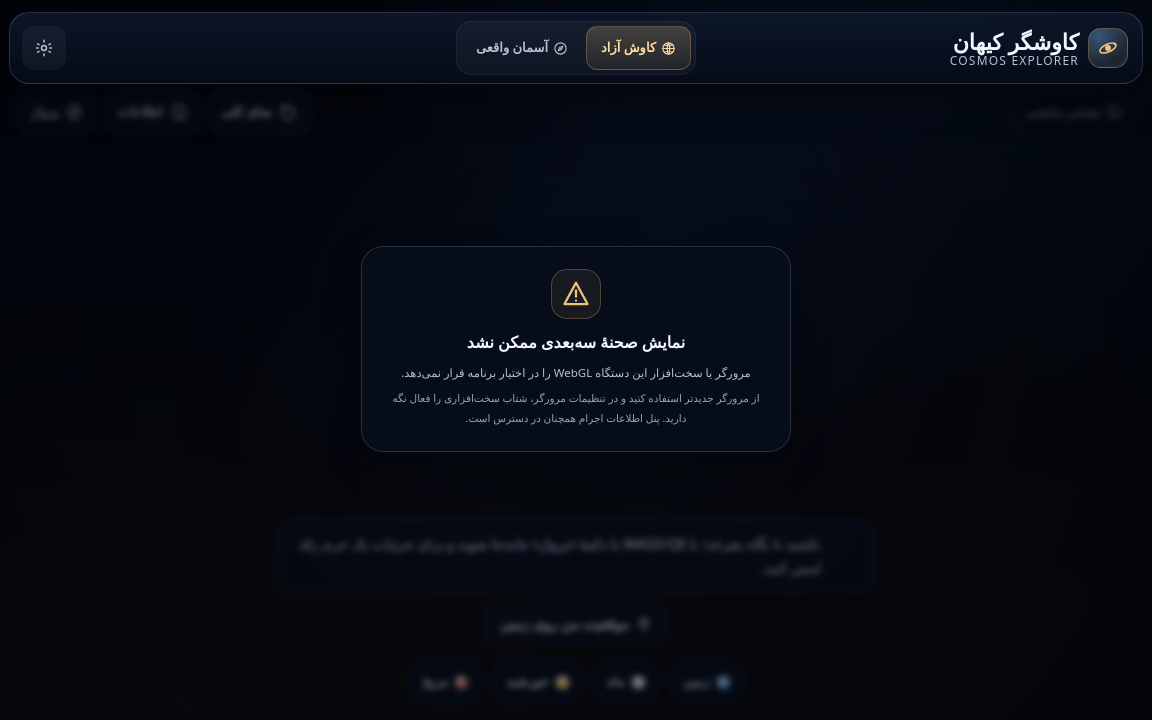
Test: application flows › selects a body and displays its scientific information
This screenshot has width=1152, height=720.
Expected: the heading "نمایش صحنهٔ سه‌بعدی ممکن نشد" is shown, left=467, top=331, right=685, bottom=353
Click the button "ماه" at (626, 682), box left=592, top=660, right=660, bottom=704
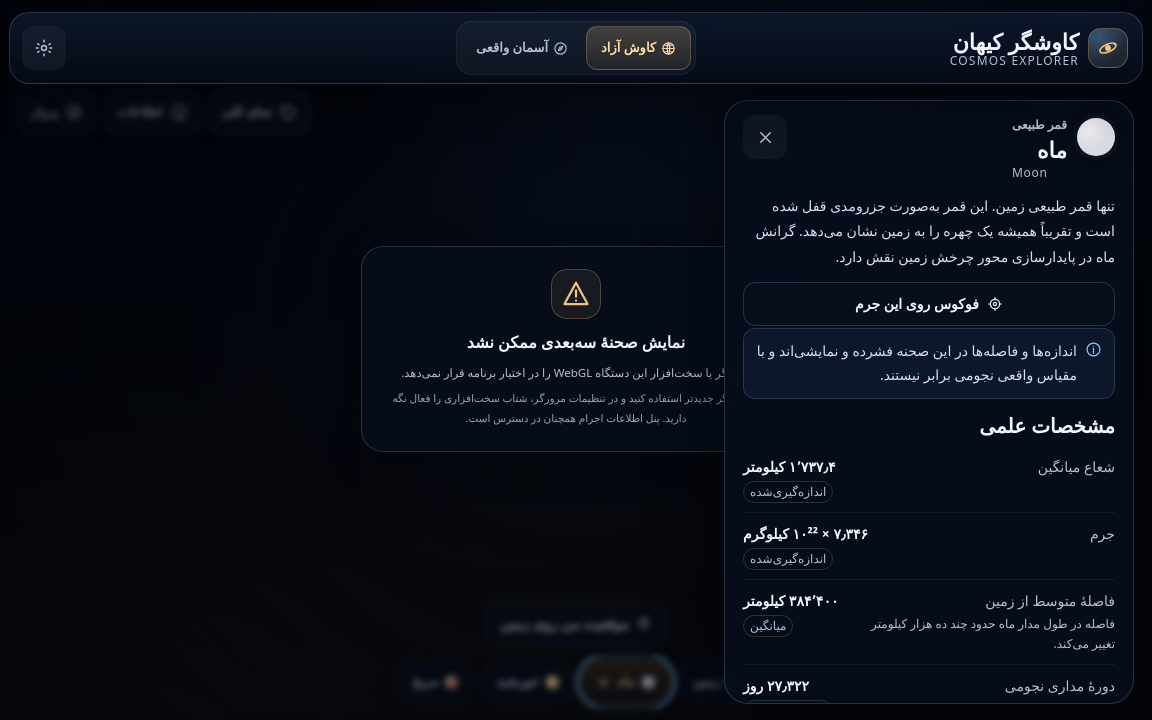
Now the heading "ماه" is shown, box left=1037, top=134, right=1067, bottom=164
Now the text "مقیاس واقعی نجومی" is shown, box left=757, top=341, right=1077, bottom=384
Click the button named "بستن اطلاعات" at (765, 137), box left=743, top=115, right=787, bottom=159
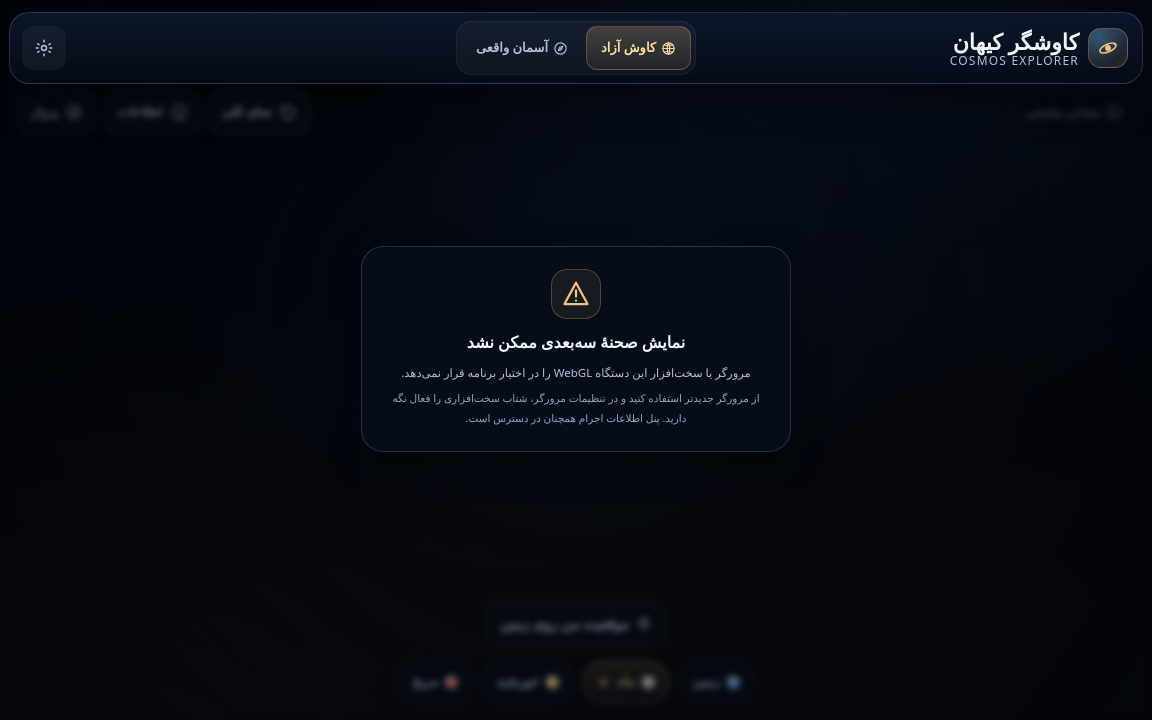
Now the element with test id "celestial-info-panel" is gone
